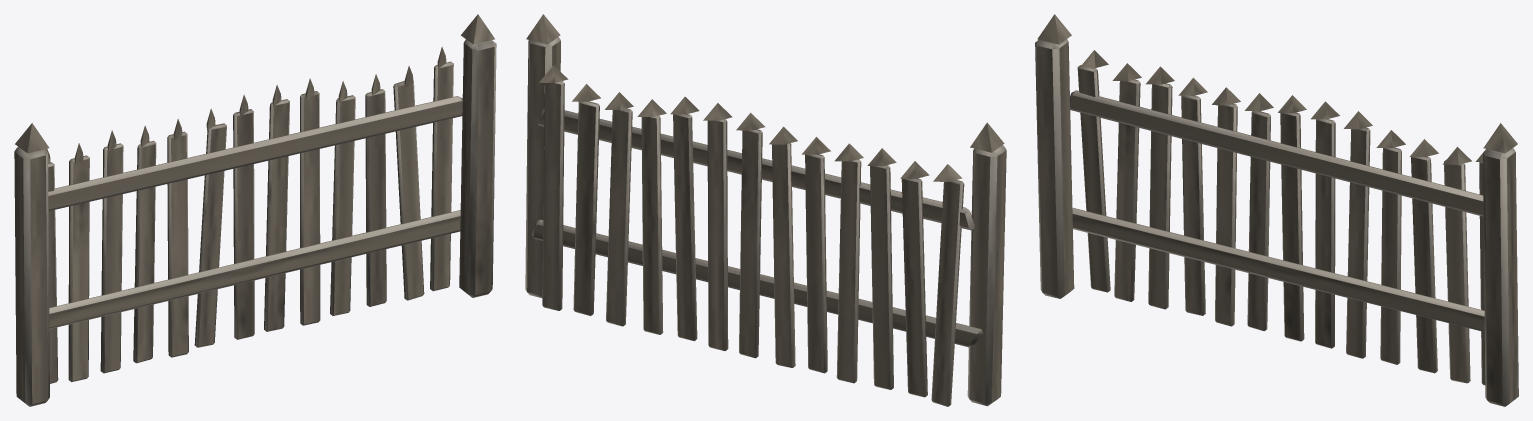
The model's file is SM_Fence_Picket.obj.
The picture shows the model from 3 angles, left to right: view 1: azimuth 30°, elevation 25°; view 2: azimuth 150°, elevation 25°; view 3: azimuth 330°, elevation 25°; orthographic projection.
Visible parts, largest first — view 1: SM_Fence_Picket; view 2: SM_Fence_Picket; view 3: SM_Fence_Picket.
Part boxes in pixels (box(x1,y1,x2,y2)): SM_Fence_Picket: box(14, 14, 496, 406); SM_Fence_Picket: box(525, 14, 1006, 406); SM_Fence_Picket: box(1035, 14, 1518, 406).
Size of the model in its own units: 2.12 by 1.2 by 0.2099.
Materials: 1 (1 with a texture image).
